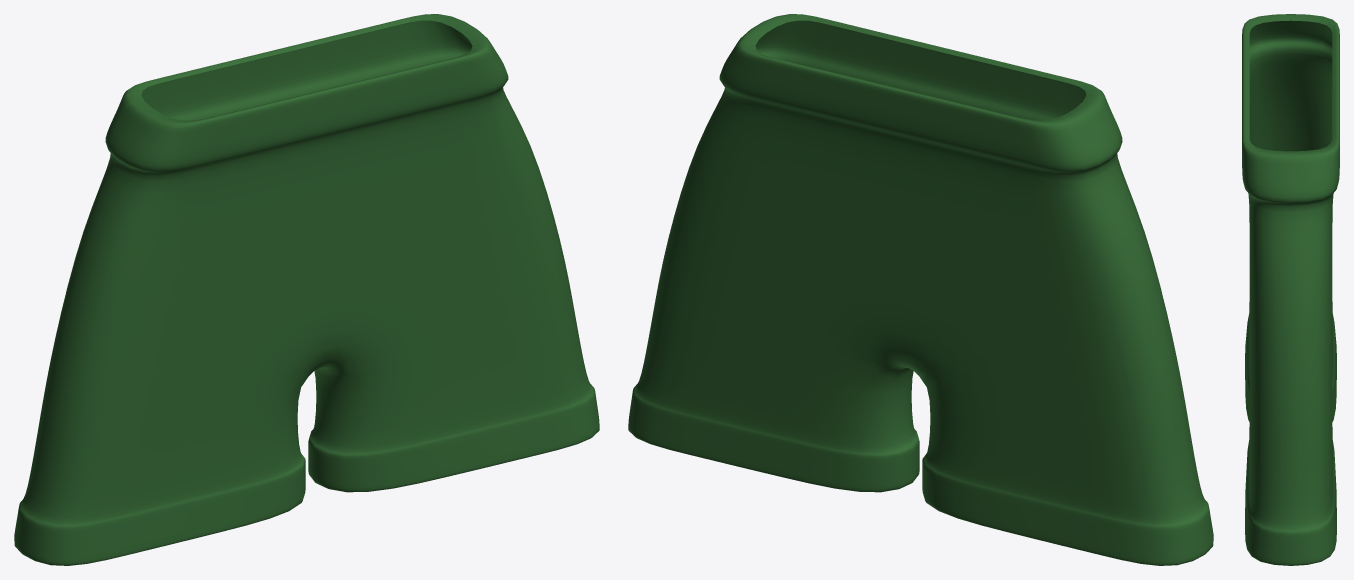
File: shorts.fbx
3 renders of one model, left to right at view 1: azimuth 30°, elevation 25°; view 2: azimuth 150°, elevation 25°; view 3: azimuth 270°, elevation 25°, orthographic. The views are drawn at different scales.
Parts seen in each view (by area): view 1: Shorts; view 2: Shorts; view 3: Shorts.
Boxes of the visible parts, box(x1,y1,x2,y2) form: Shorts: box(14, 14, 599, 565); Shorts: box(628, 14, 1213, 565); Shorts: box(1242, 14, 1339, 565).
Size of the model in its own units: 23.87 by 139 by 97.3.
